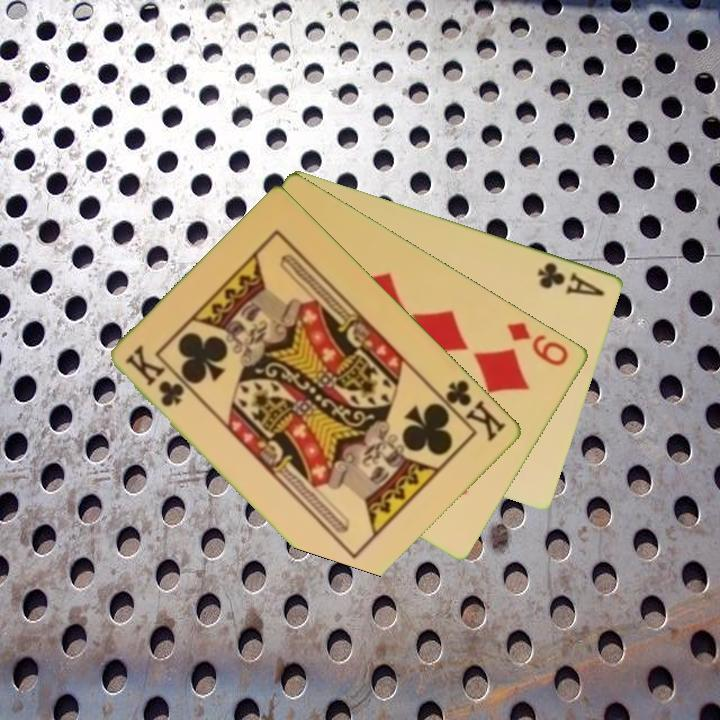9d: (504, 318, 572, 369)
Ac: (534, 258, 608, 299)
Kc: (434, 376, 510, 445), (122, 341, 188, 410)
